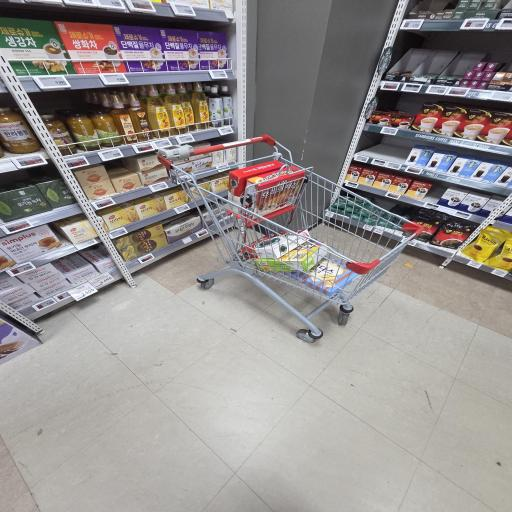fully_cart: (147, 127, 449, 352)
